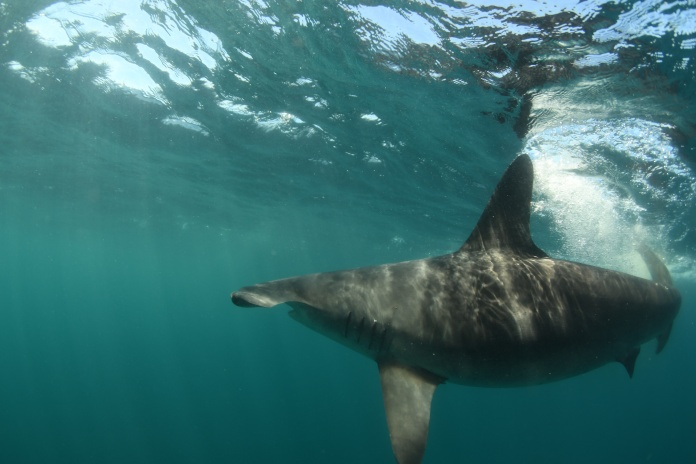Hammer: (207, 146, 683, 463)
